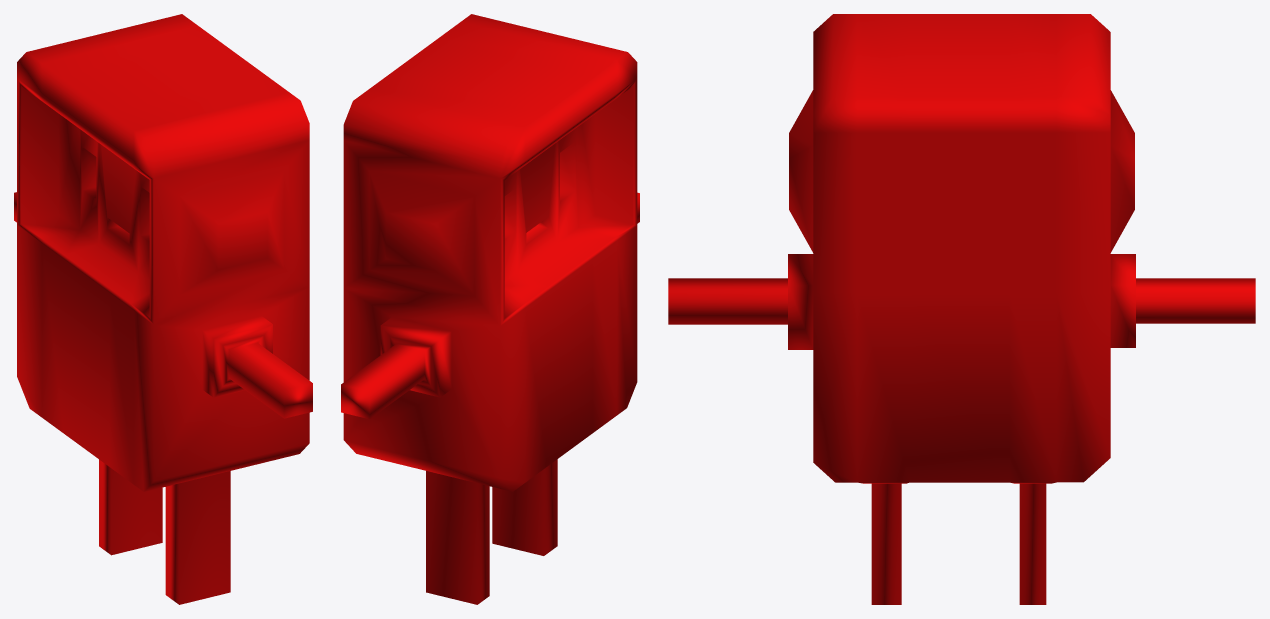
Rendered from mdl_Corredor_muñeco.fbx.
3 renders of one model, left to right at view 1: azimuth 30°, elevation 25°; view 2: azimuth 150°, elevation 25°; view 3: azimuth 270°, elevation 25°, orthographic. The views are drawn at different scales.
Parts seen in each view (by area): view 1: mdl_Corredor_muñeco; view 2: mdl_Corredor_muñeco; view 3: mdl_Corredor_muñeco.
Part boxes in pixels (x1=…): mdl_Corredor_muñeco: x1=14, y1=14, x2=312, y2=604; mdl_Corredor_muñeco: x1=341, y1=14, x2=639, y2=604; mdl_Corredor_muñeco: x1=668, y1=14, x2=1255, y2=604.
Bounding box in the file's own units: 1.83 × 5.5 × 5.46.
